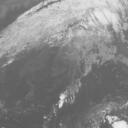cyclone: (35, 41, 103, 101)
